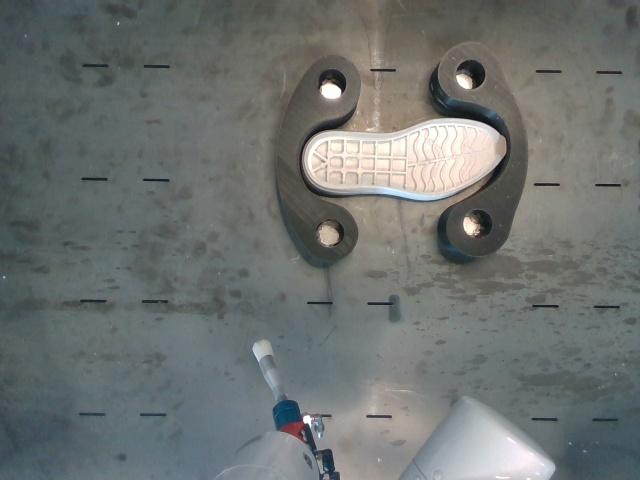shoes: (305, 118, 507, 196)
